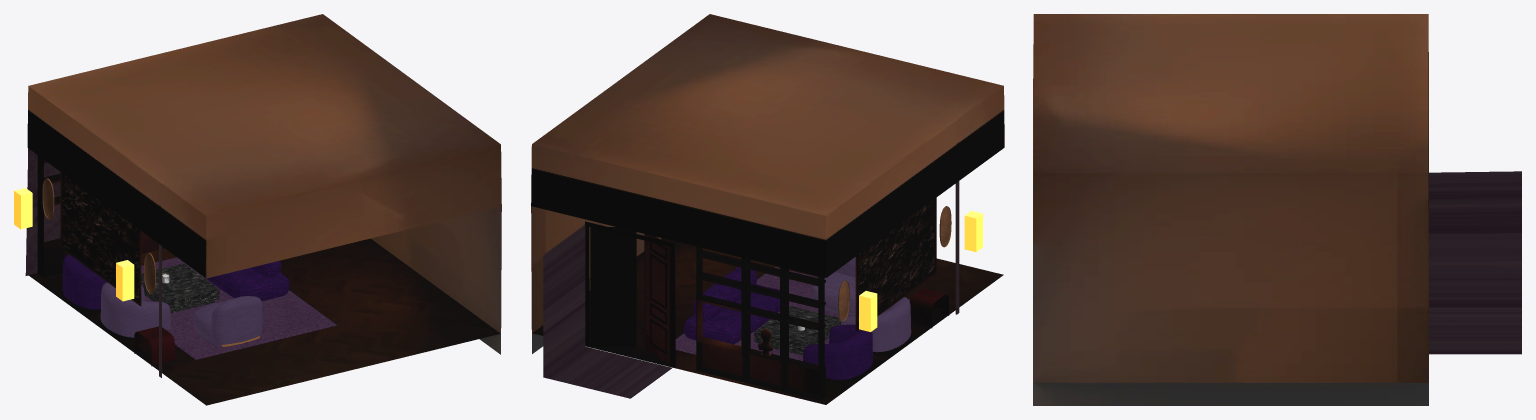
The model's file is cubeTest_script.glb.
3 views of the same model, side by side, from view 1: azimuth 30°, elevation 25°; view 2: azimuth 150°, elevation 25°; view 3: azimuth 270°, elevation 25° (orthographic). The views are drawn at different scales.
Visible parts, largest first — view 1: base_baies, base_baies_ground, tableau_baies_art, tapis_baies, prop_baies_sofa_small_close, base_baies_walls, prop_baies_sofa_small_middle, prop_baies_tableBasse, prop_baies_sofa_long, base_baies_etageres, prop_baies_sofa_small_far, prop_baies_tablette (+4 smaller); view 2: base_baies, base_baies_etageres, base_baies_walls, base_baies_ground, porte_baies_droite, tableau_baies_art, prop_baies_sofa_long, porte_baies_gauche, prop_baies_sofa_small_far, porte_baies_encadrement, prop_baies_tableBasse, prop_baies_sofa_small_middle (+8 smaller); view 3: base_baies, base_baies_walls.
Boxes of the visible parts, box(x1,y1,x2,y2) form: base_baies: box(27, 14, 501, 354); base_baies_ground: box(28, 238, 500, 405); tableau_baies_art: box(62, 174, 139, 301); tapis_baies: box(141, 257, 337, 359); prop_baies_sofa_small_close: box(193, 296, 262, 346); base_baies_walls: box(25, 148, 161, 377); prop_baies_sofa_small_middle: box(100, 282, 170, 337); prop_baies_tableBasse: box(141, 263, 219, 313); prop_baies_sofa_long: box(205, 260, 289, 301); base_baies_etageres: box(37, 155, 164, 277); prop_baies_sofa_small_far: box(62, 254, 107, 309); prop_baies_tablette: box(134, 326, 174, 366); base_baies: box(531, 14, 1004, 353); base_baies_etageres: box(696, 246, 825, 400); base_baies_walls: box(543, 181, 959, 398); base_baies_ground: box(532, 238, 1003, 404); porte_baies_droite: box(590, 227, 636, 347); tableau_baies_art: box(858, 199, 934, 327); prop_baies_sofa_long: box(684, 267, 779, 344); porte_baies_gauche: box(644, 234, 670, 365); prop_baies_sofa_small_far: box(803, 324, 872, 379); porte_baies_encadrement: box(584, 221, 675, 367); prop_baies_tableBasse: box(754, 306, 840, 355); prop_baies_sofa_small_middle: box(841, 297, 911, 352); base_baies: box(1033, 14, 1428, 405); base_baies_walls: box(1429, 171, 1521, 354).
Bounding box in the file's own units: 6.88 × 4.22 × 8.03.
25 materials, 23 textured.
